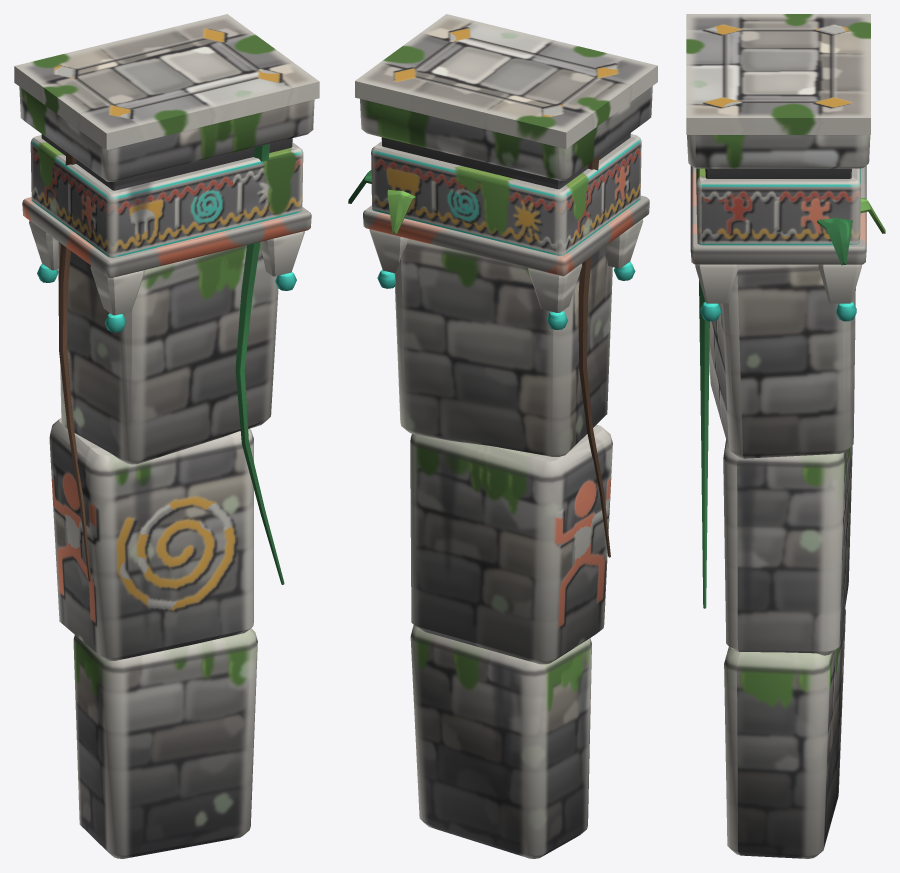
Rendered from bridge_S.glb.
3 renders of one model, left to right at view 1: azimuth 30°, elevation 25°; view 2: azimuth 150°, elevation 25°; view 3: azimuth 270°, elevation 25°, orthographic.
Visible parts, largest first — view 1: bridge_S.001; view 2: bridge_S.001; view 3: bridge_S.001.
Boxes of the visible parts, <box> form: bridge_S.001: <box>14,14,319,858</box>; bridge_S.001: <box>348,14,657,858</box>; bridge_S.001: <box>686,14,885,858</box>.
Size of the model in its own units: 4.38 by 13.68 by 3.24.
1 material, 1 textured.
